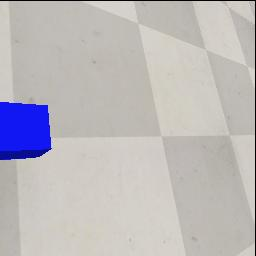box: (0, 101, 53, 161)
